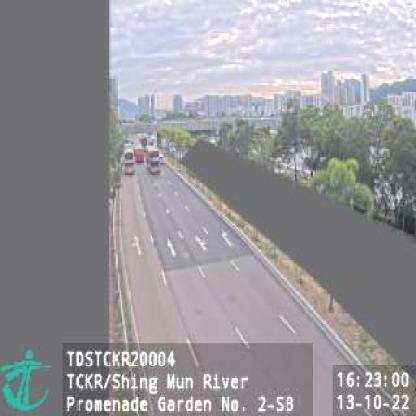Bus: (145, 144, 163, 176), (123, 144, 137, 176)
